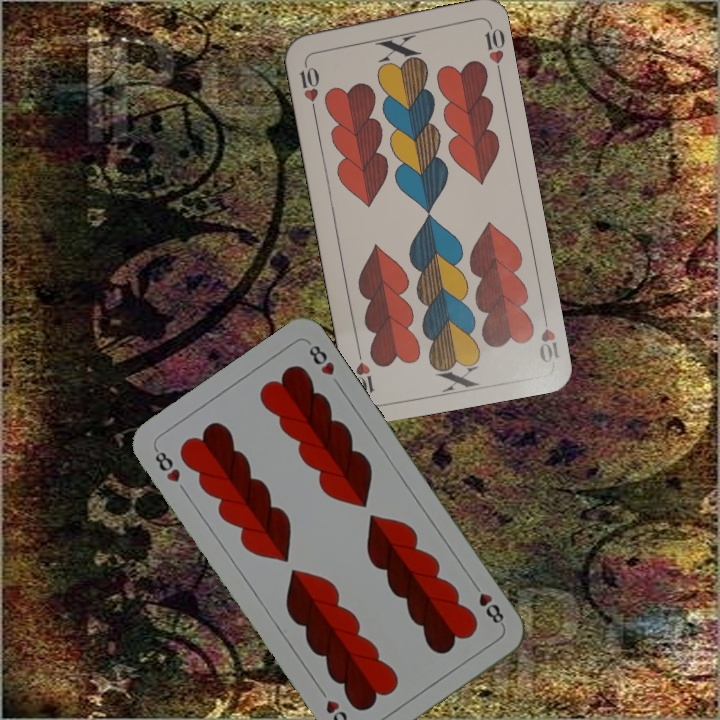H10: (295, 56, 322, 115), (535, 307, 562, 366)
H8: (468, 577, 507, 628), (150, 444, 183, 485)
